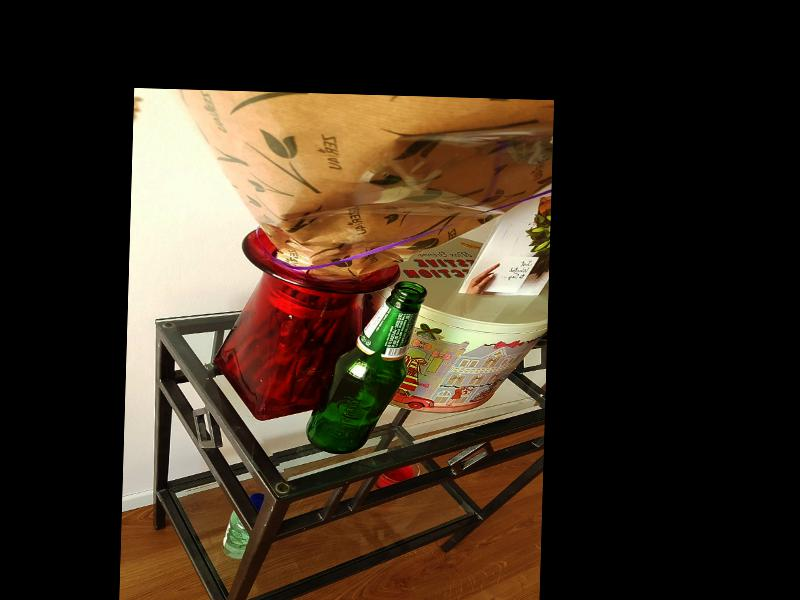Beer: (305, 278, 424, 456)
